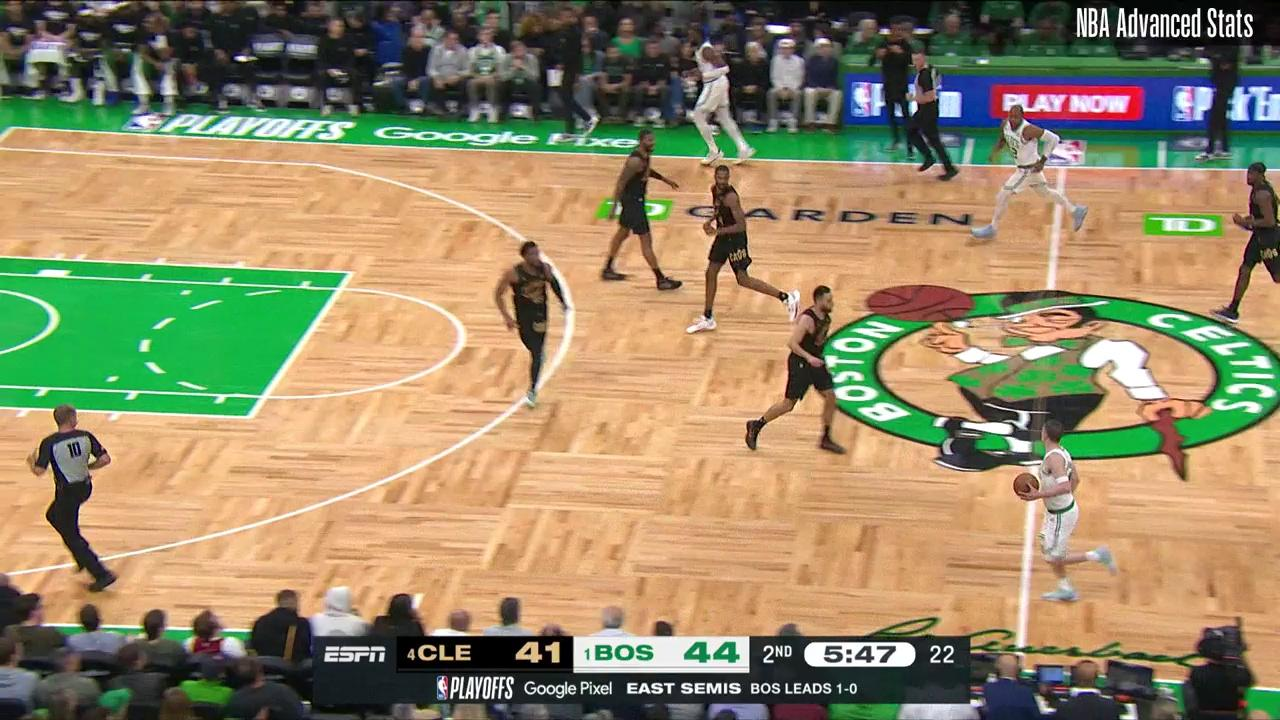b_dx: (5, 120, 20, 134)
free_adx: (341, 266, 358, 281)
free_asx: (241, 410, 258, 424)
half_dx: (1053, 159, 1073, 175)
mid_sx: (412, 587, 425, 600)
referee: (28, 404, 119, 591), (905, 46, 964, 184)
team: (1024, 423, 1119, 601), (975, 105, 1086, 240), (684, 23, 762, 165)
team1: (687, 167, 802, 334), (747, 285, 847, 457), (599, 131, 683, 292), (495, 240, 571, 414), (1221, 165, 1280, 318)
timer: (817, 636, 908, 674)
